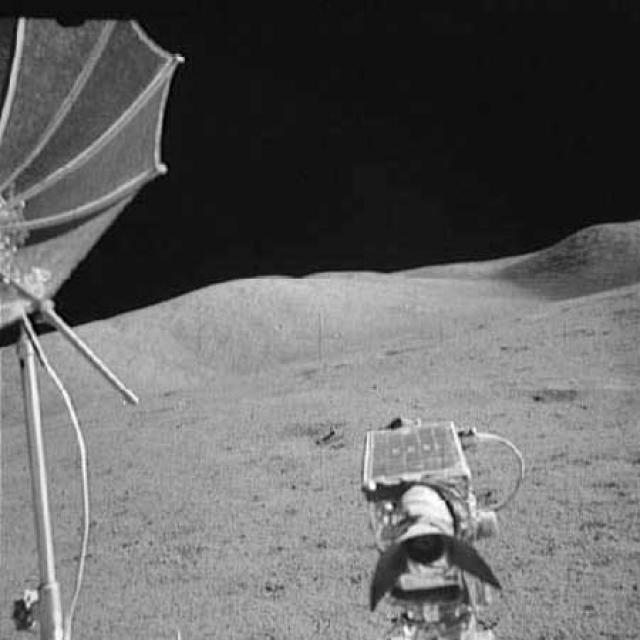artifact: (0, 7, 184, 639), (348, 416, 541, 639)
crater: (256, 423, 336, 446), (493, 387, 575, 408)
